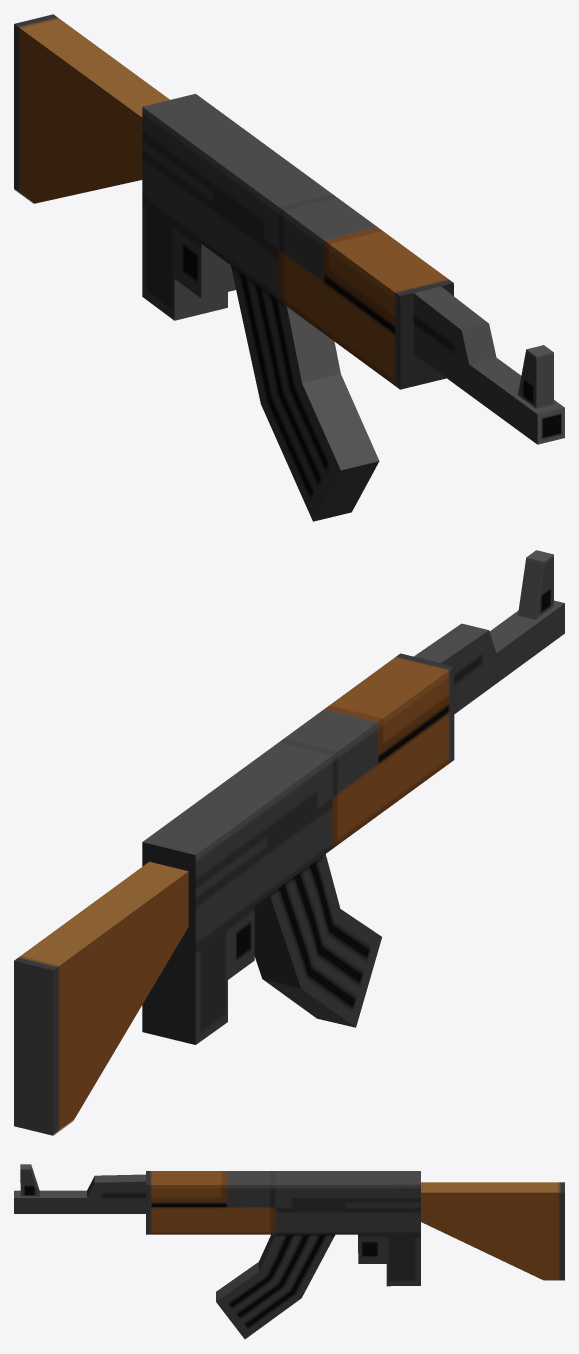
Rendered from SM_Wep_AK47_01.fbx.
The picture shows the model from 3 angles, top to bottom: view 1: azimuth 30°, elevation 25°; view 2: azimuth 150°, elevation 25°; view 3: azimuth 270°, elevation 25°; orthographic projection. The views are drawn at different scales.
Parts seen in each view (by area): view 1: SM_Wep_AK47_01; view 2: SM_Wep_AK47_01; view 3: SM_Wep_AK47_01.
Part boxes in pixels (x1,y1,x2,y2): SM_Wep_AK47_01: (14, 14, 564, 521); SM_Wep_AK47_01: (14, 550, 564, 1135); SM_Wep_AK47_01: (14, 1164, 564, 1339).
Size of the model in its own units: 11.41 by 64.04 by 190.
